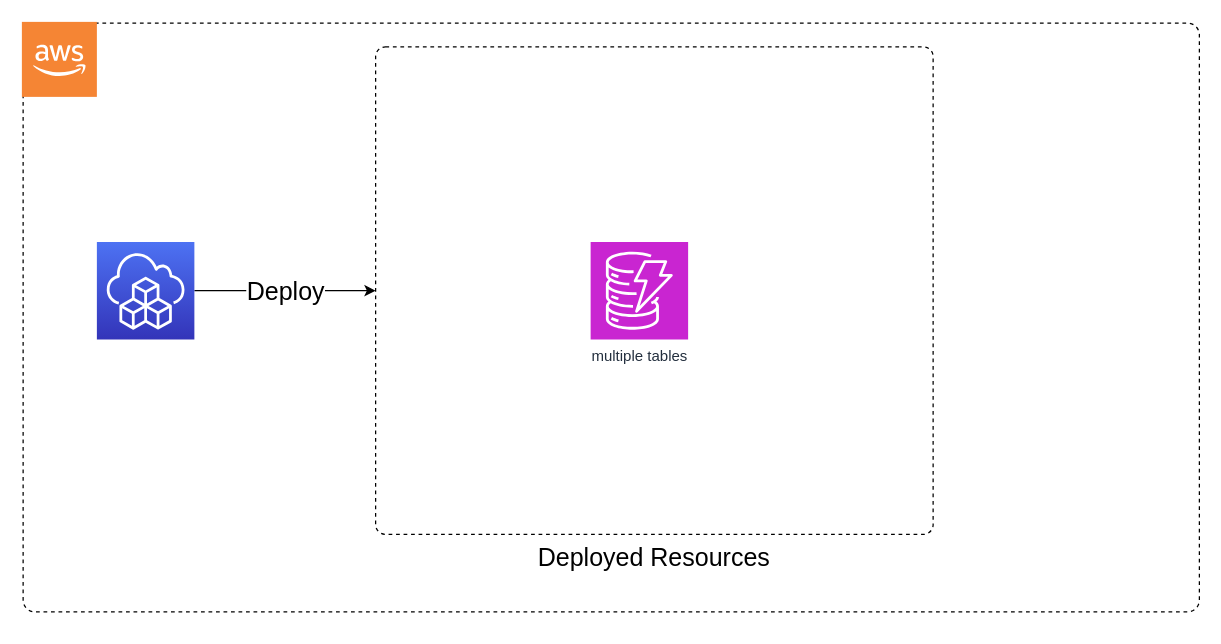
The diagram is 1221 pixels wide and 644 high, and some of its shapes have lost their labels. Here are the shapes that lost their labels. From the top down, the centre of each, then its label:
point (59, 59): Deployment/Target Account
point (145, 290): MDAA/CDK
